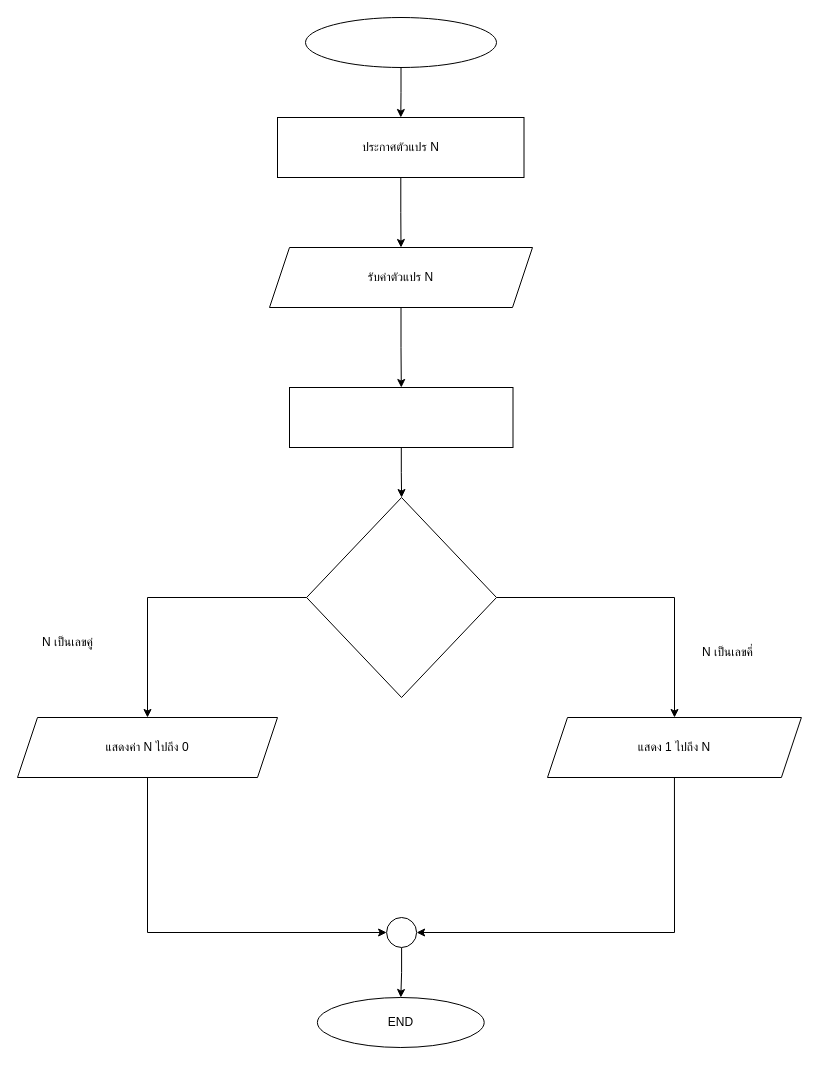
Some shapes in this 819 by 1065 pixel diagram are drawn without their labels. The centre of each missing label's shape, as x and y in pixels:
"Start" goes at [400,42].
"ตรวจสอบ N ว่าเป็นเลขคู่หรือเลขคี่" goes at [401,597].
"รับค่า scanf เข้าไปใน int N" goes at [400,417].
